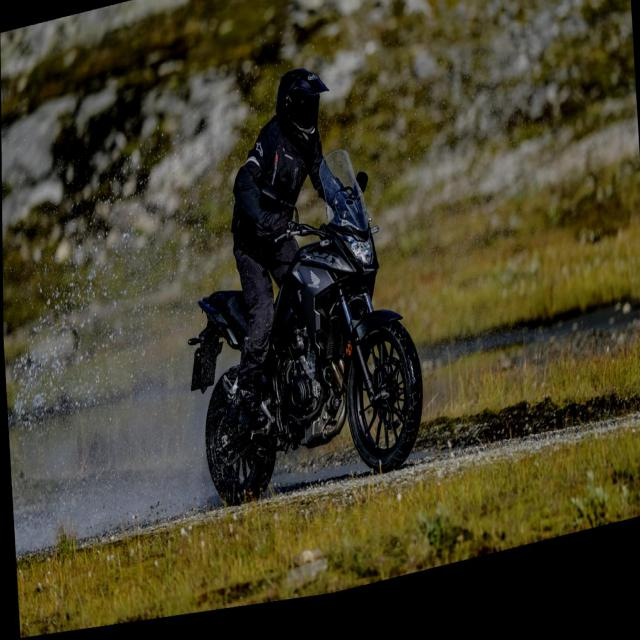CB500X: (178, 143, 424, 524)
